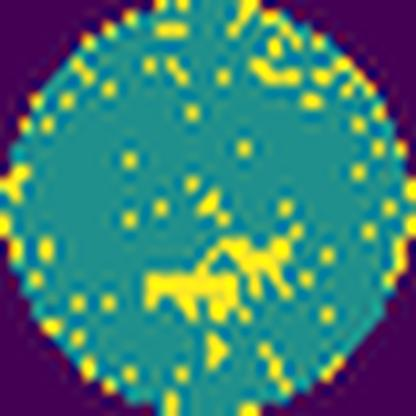Loc: (142, 221, 304, 324)
